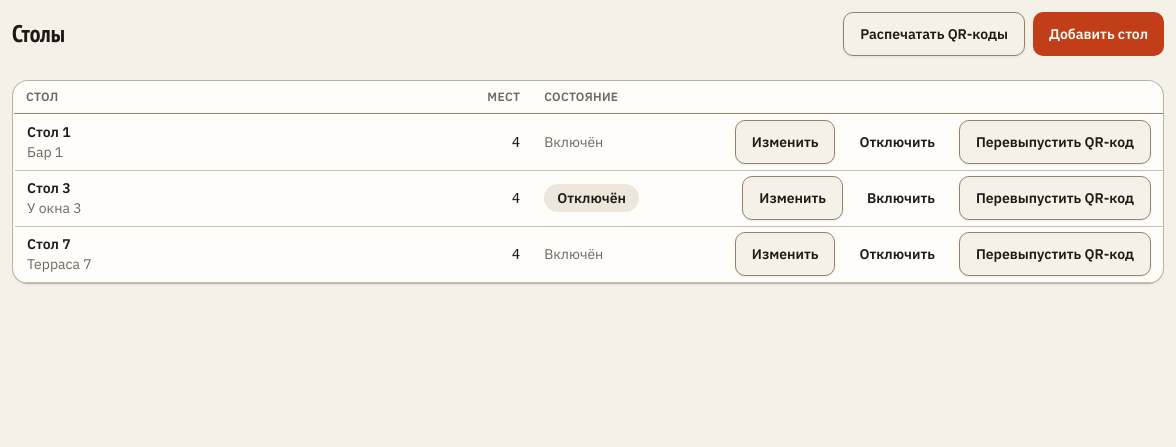
TablesTable › opens a new table at the next free number and posts it whole
Click the button "Добавить стол".
click(1098, 34)  # box [1033,12,1164,56]
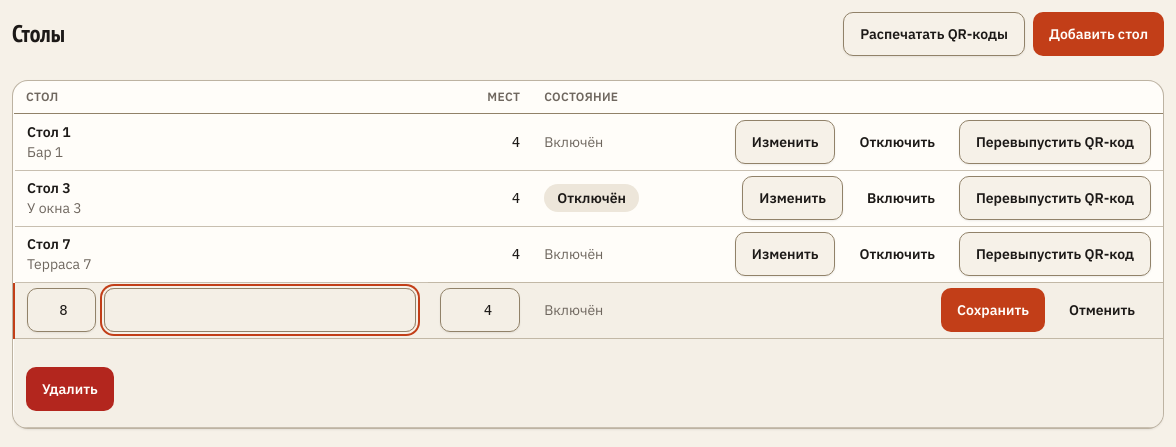
expect the 1st number field named "Номер" holds "8": met, box [27,288,96,332]
Type "Терраса 8" into the field named "Название".
click(260, 310); type("Терраса 8")  # box [104,288,416,332]
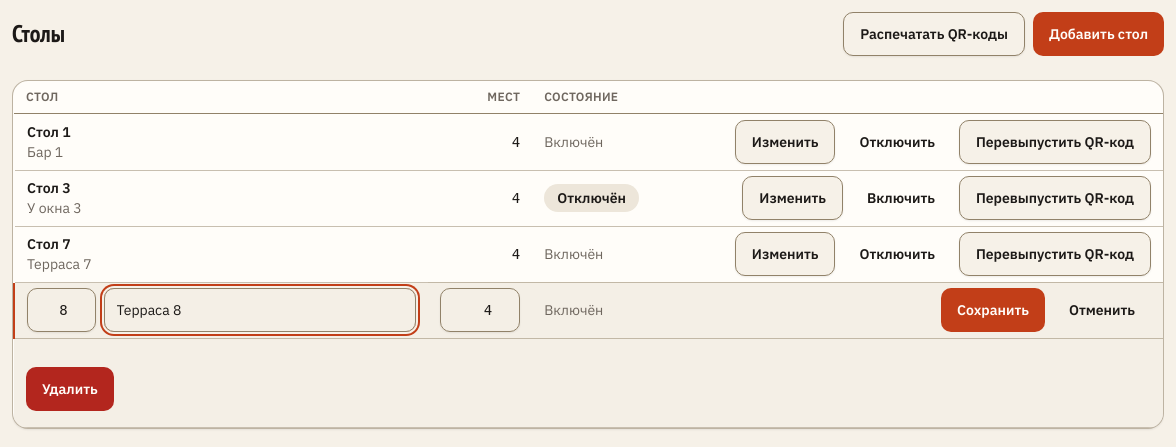
Click the button "Сохранить".
click(993, 310)  # box [941,288,1045,332]
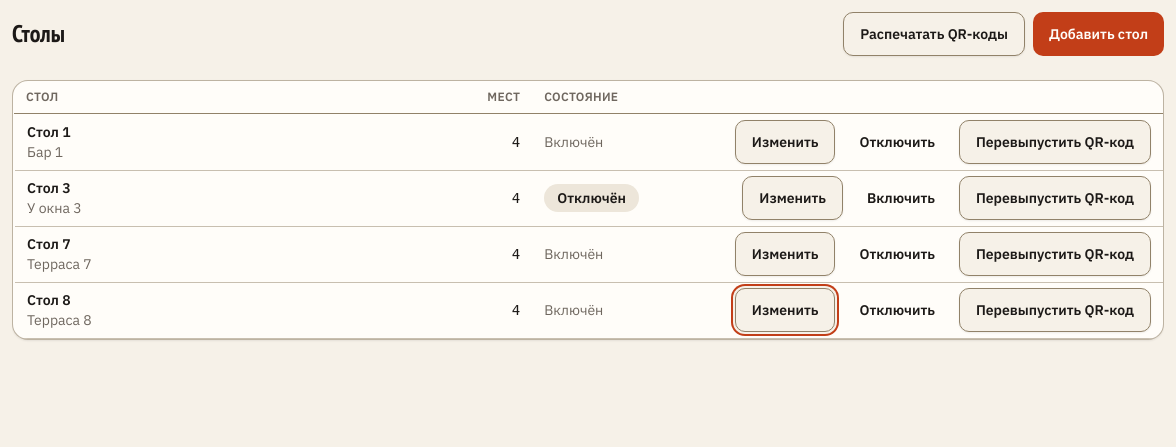
expect the text "Терраса 8" is shown: met, box [27,311,92,329]
